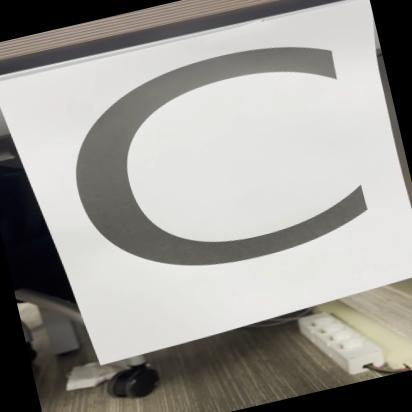seat: (0, 0, 412, 371)
